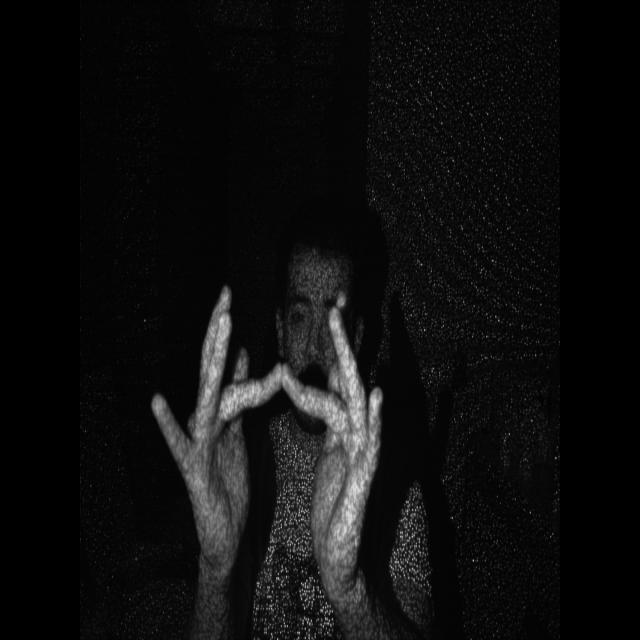REACH: (145, 269, 400, 574)
